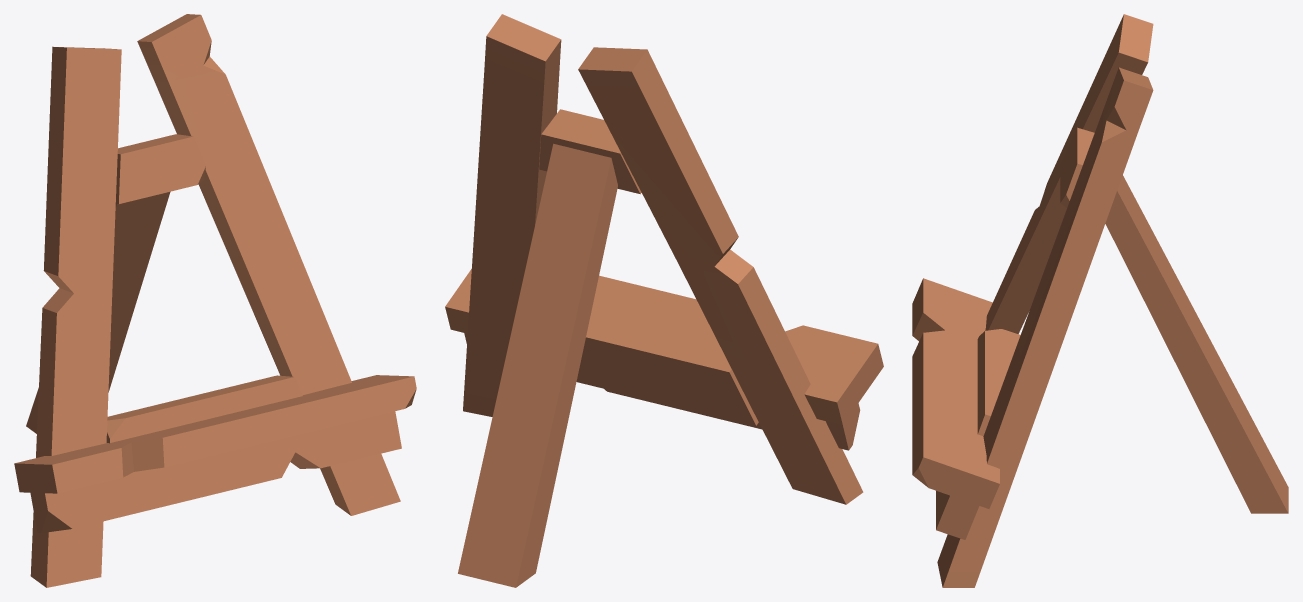
File: easel.gltf.glb
The picture shows the model from 3 angles, left to right: view 1: azimuth 30°, elevation 25°; view 2: azimuth 150°, elevation 25°; view 3: azimuth 270°, elevation 25°; orthographic projection. The views are drawn at different scales.
Visible parts, largest first — view 1: easel; view 2: easel; view 3: easel.
Boxes of the visible parts, bbox=[...] form: easel: bbox=[14, 14, 416, 587]; easel: bbox=[445, 14, 883, 587]; easel: bbox=[912, 14, 1288, 587].
Size of the model in its own units: 1.38 by 1.63 by 1.23.
